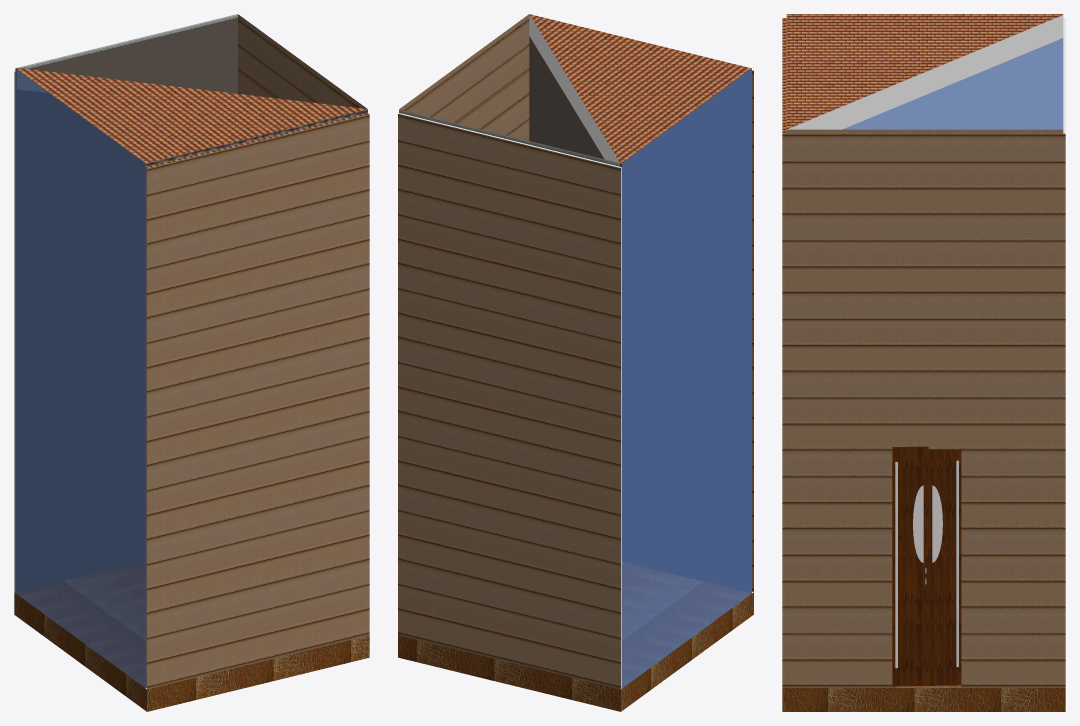
The model's file is narrow house.dae.
The picture shows the model from 3 angles, left to right: view 1: azimuth 30°, elevation 25°; view 2: azimuth 150°, elevation 25°; view 3: azimuth 270°, elevation 25°; orthographic projection. The views are drawn at different scales.
Parts seen in each view (by area): view 1: Component_1 (×10); view 2: Component_1 (×7); view 3: Component_1 (×6), skpBCBE (×7).
Boxes of the visible parts, x1,y1,x2,y2 form: Component_1 (×10): (14,14,369,711); Component_1 (×7): (398,14,753,711); Component_1 (×6): (782,14,1065,711); skpBCBE (×7): (892,446,961,686).
Bounding box in the file's own units: 95.21 × 97.89 × 222.
